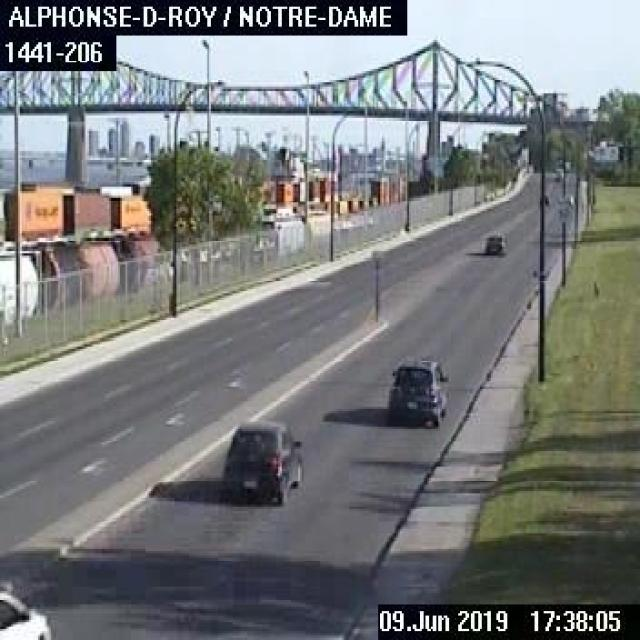vehicle: (223, 421, 300, 505), (386, 354, 449, 426), (0, 582, 56, 637), (480, 229, 504, 253)
